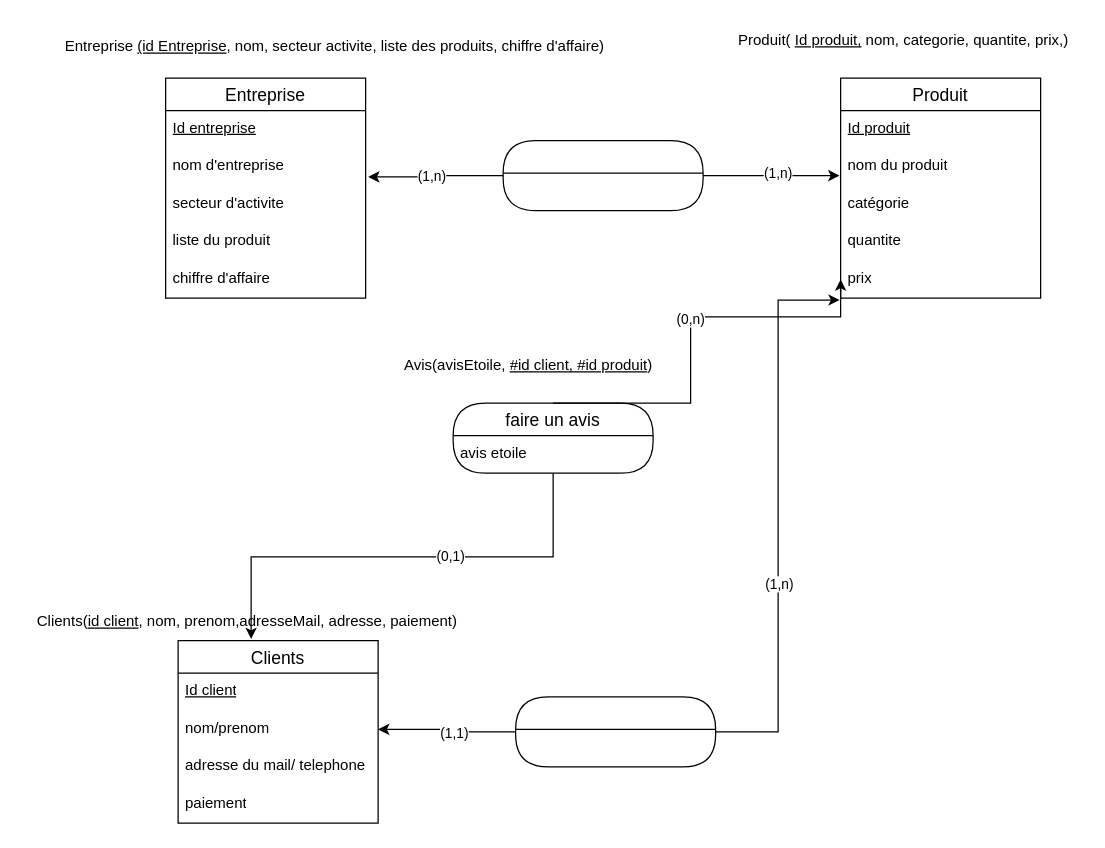
Image size: 1105x848. Some labels were removed from this diagram. The shapes that lost their labels are listed below. From the top down, each one's centre as x and y in pixels, then its label:
point (602, 175): fabriqué
point (615, 731): livre/commande
